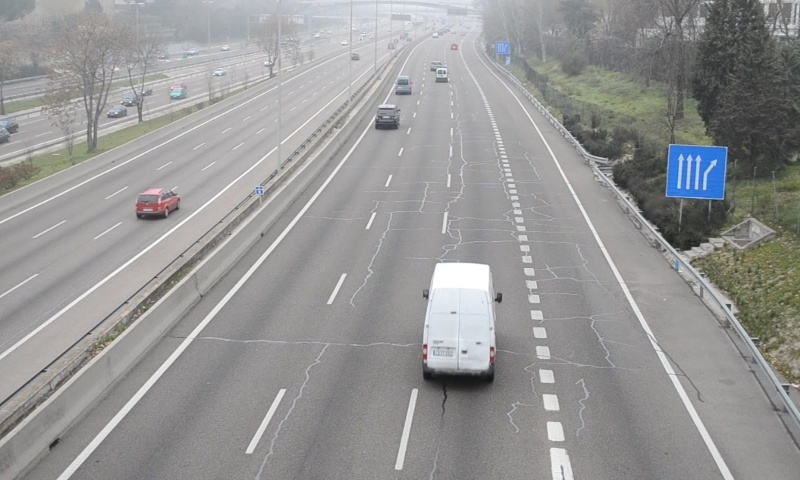car: (375, 104, 400, 128)
van: (420, 262, 496, 380), (395, 74, 412, 96)
